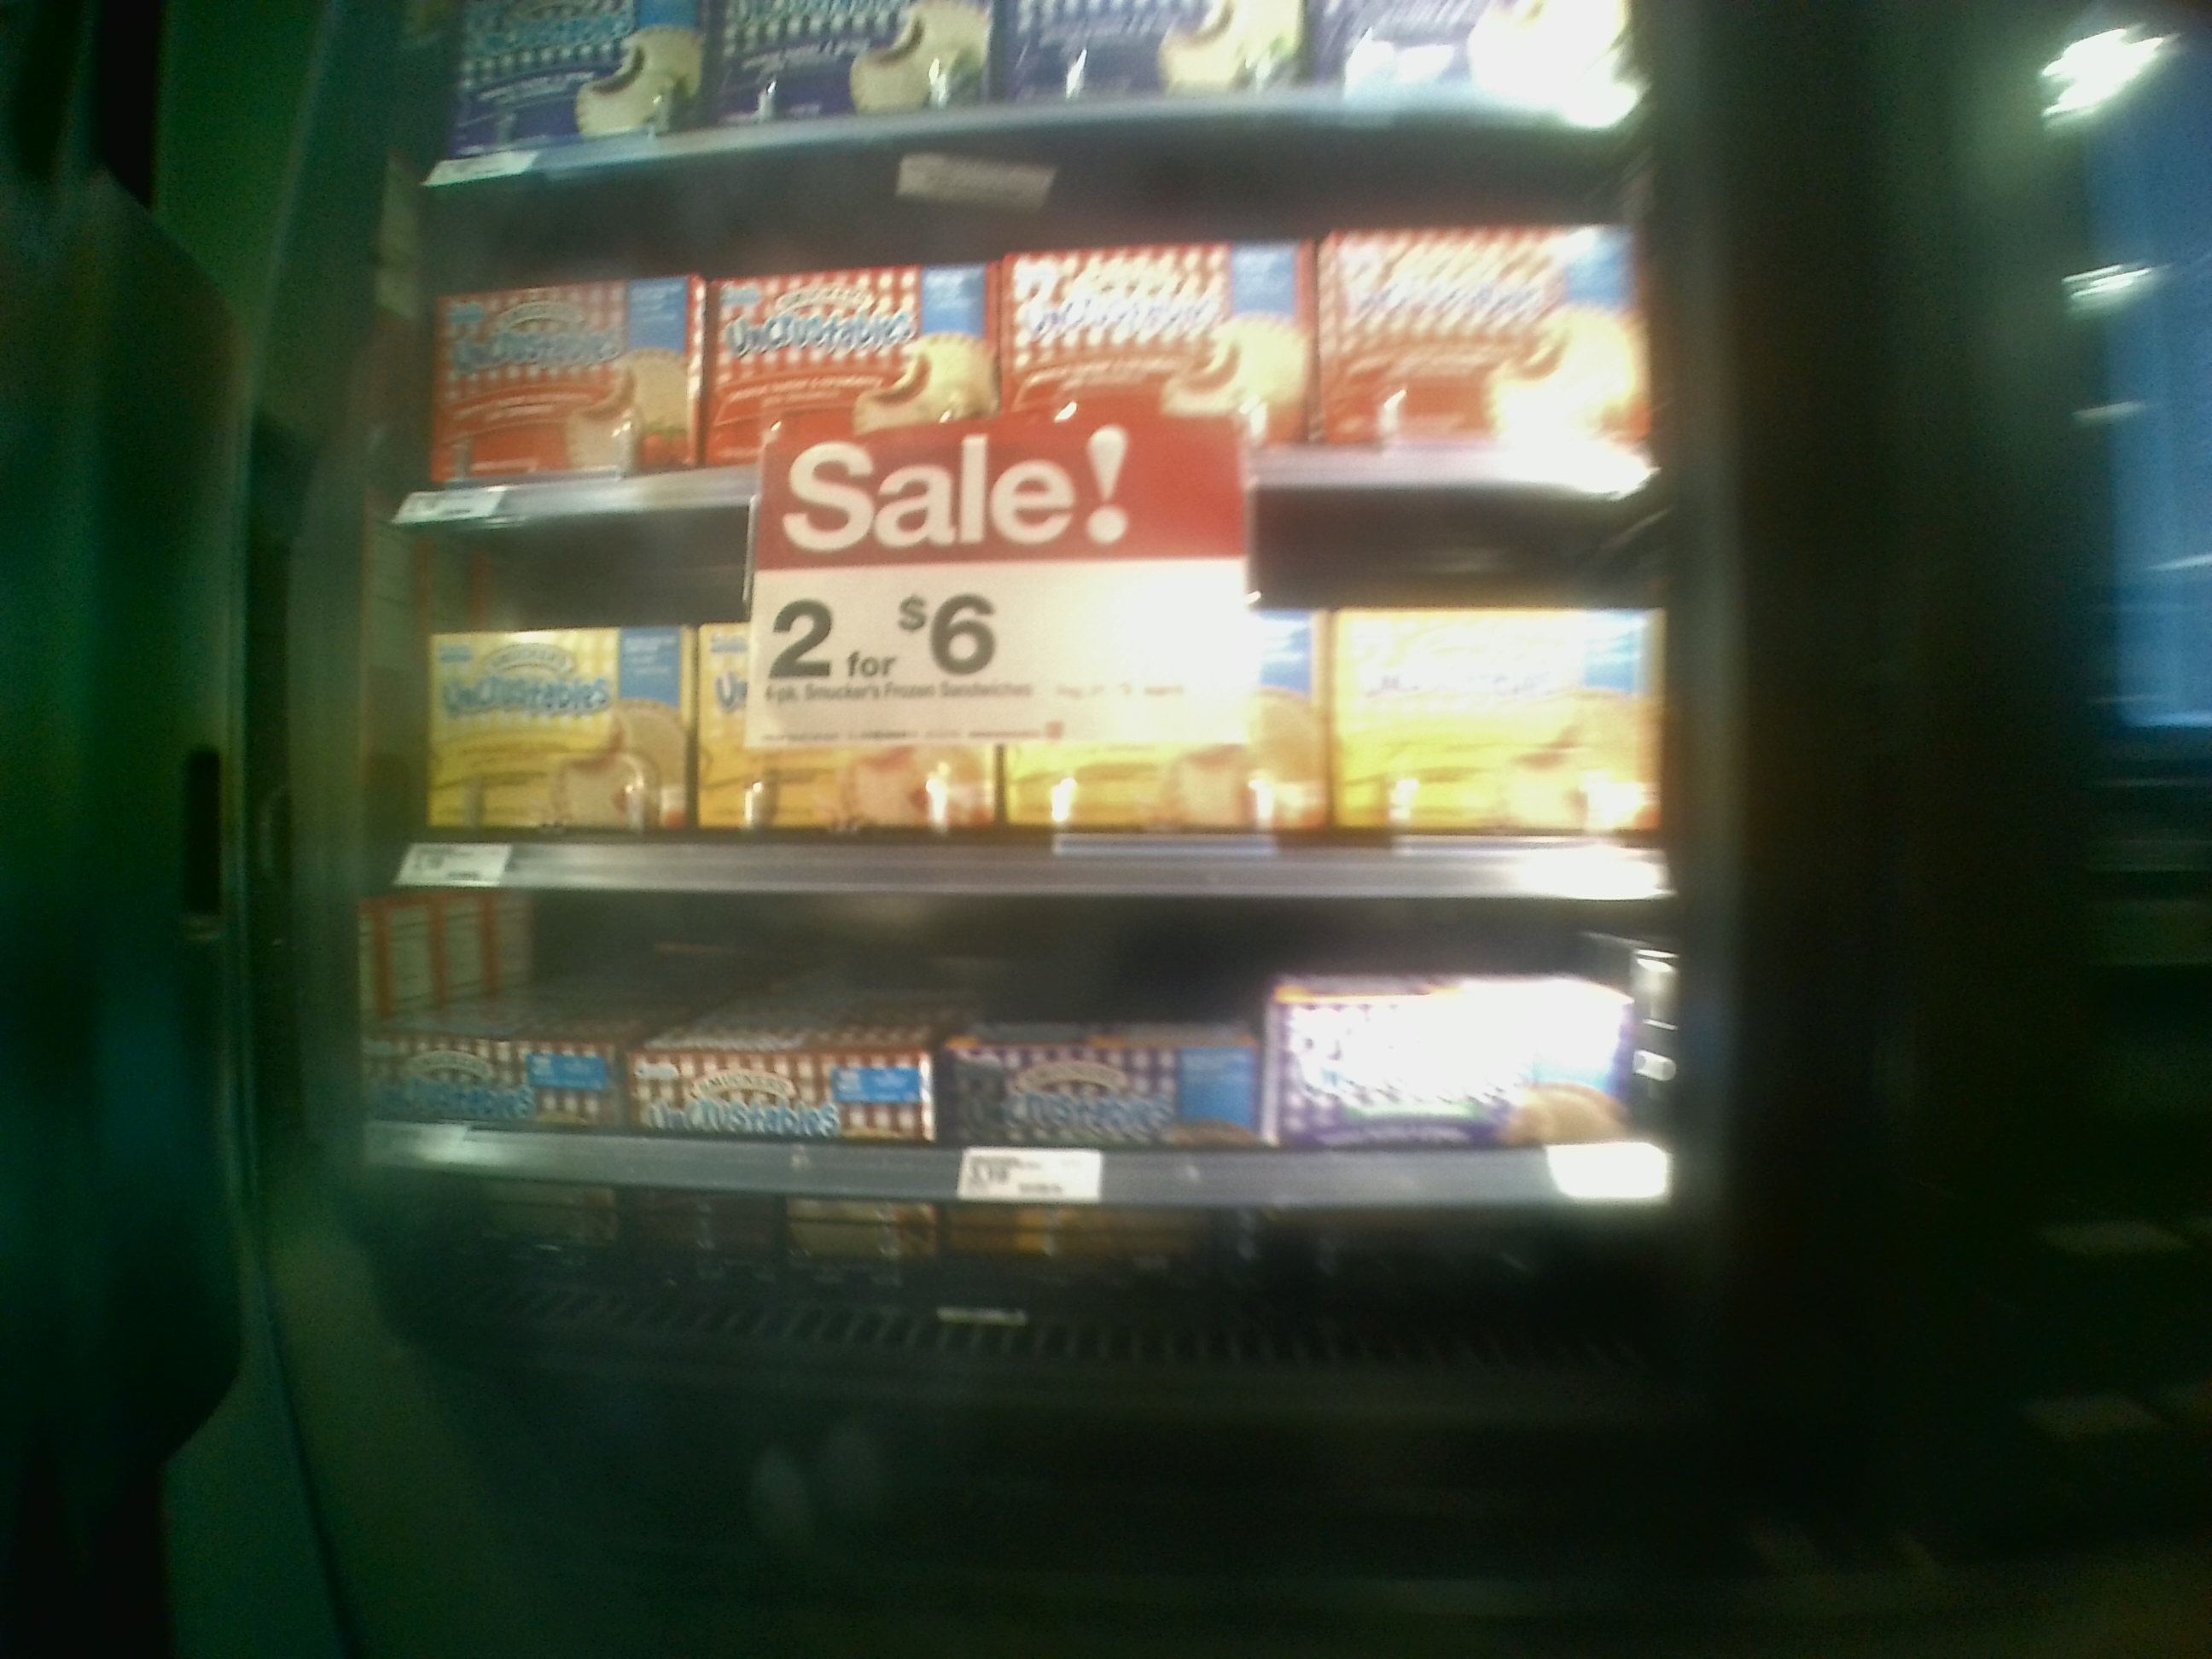shelf: (381, 523, 1658, 903)
